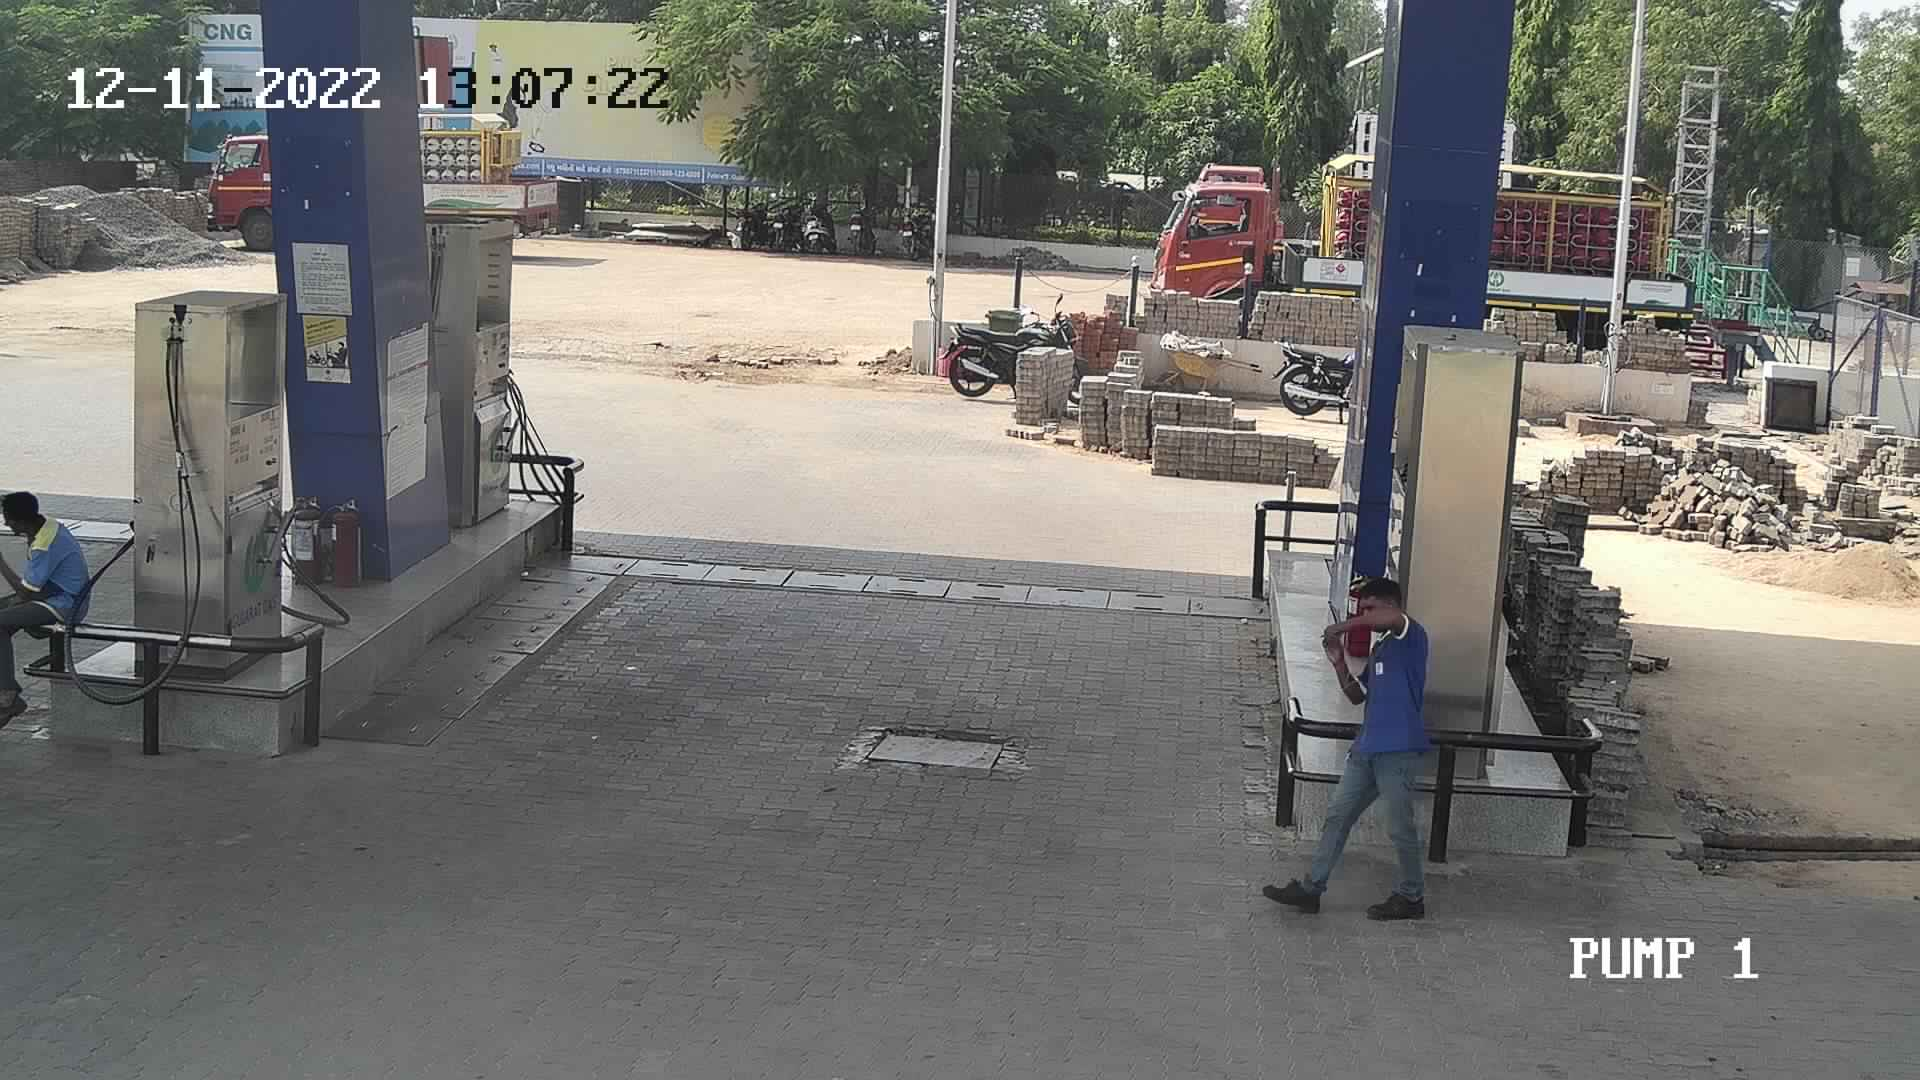Bike: (938, 298, 1085, 410), (1265, 328, 1361, 431), (764, 182, 816, 255), (735, 179, 785, 251), (893, 191, 938, 269), (795, 193, 845, 255), (840, 191, 882, 262)
HMV: (1139, 146, 1375, 340), (1141, 95, 1378, 264), (405, 90, 574, 252)
Others: (0, 473, 99, 738)
